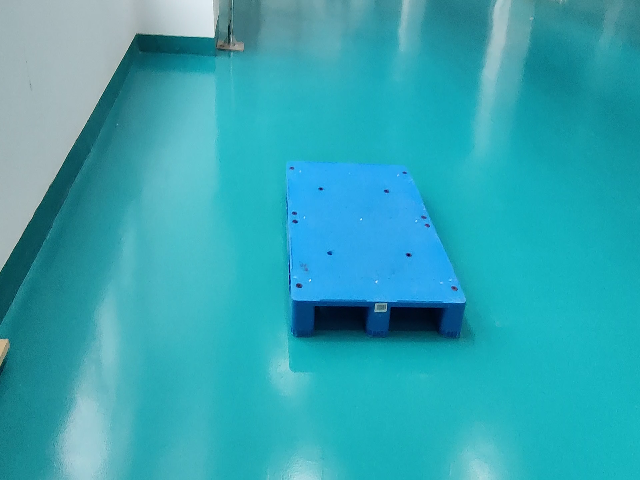block: (365, 301, 391, 338), (440, 303, 468, 337), (290, 299, 315, 335)
front: (292, 300, 465, 342)
hole pallet: (314, 306, 369, 336), (387, 308, 445, 335)
